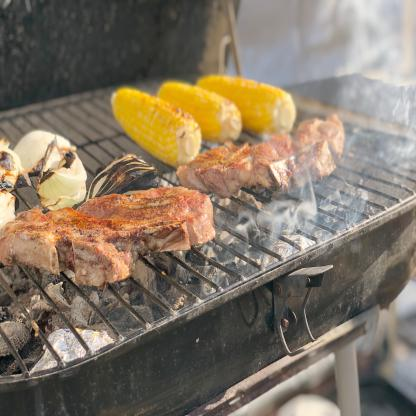Carne: (1, 179, 217, 303), (179, 105, 356, 204)
